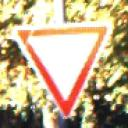preferencia: (10, 18, 117, 120)
